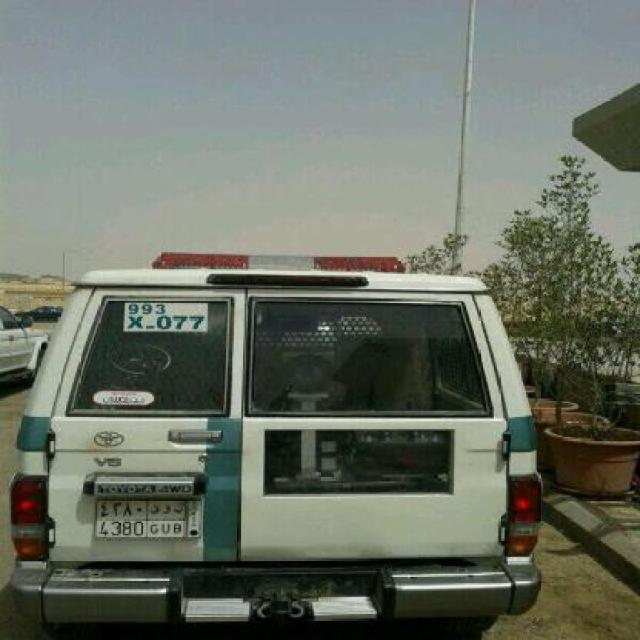license_plate: (94, 495, 203, 540)
